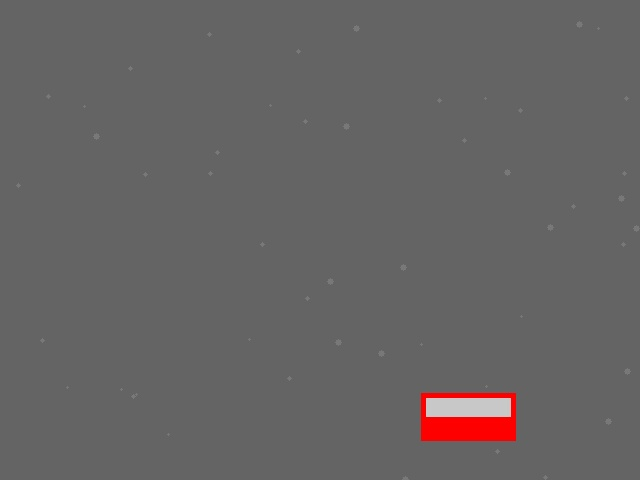car: (421, 393, 515, 440)
